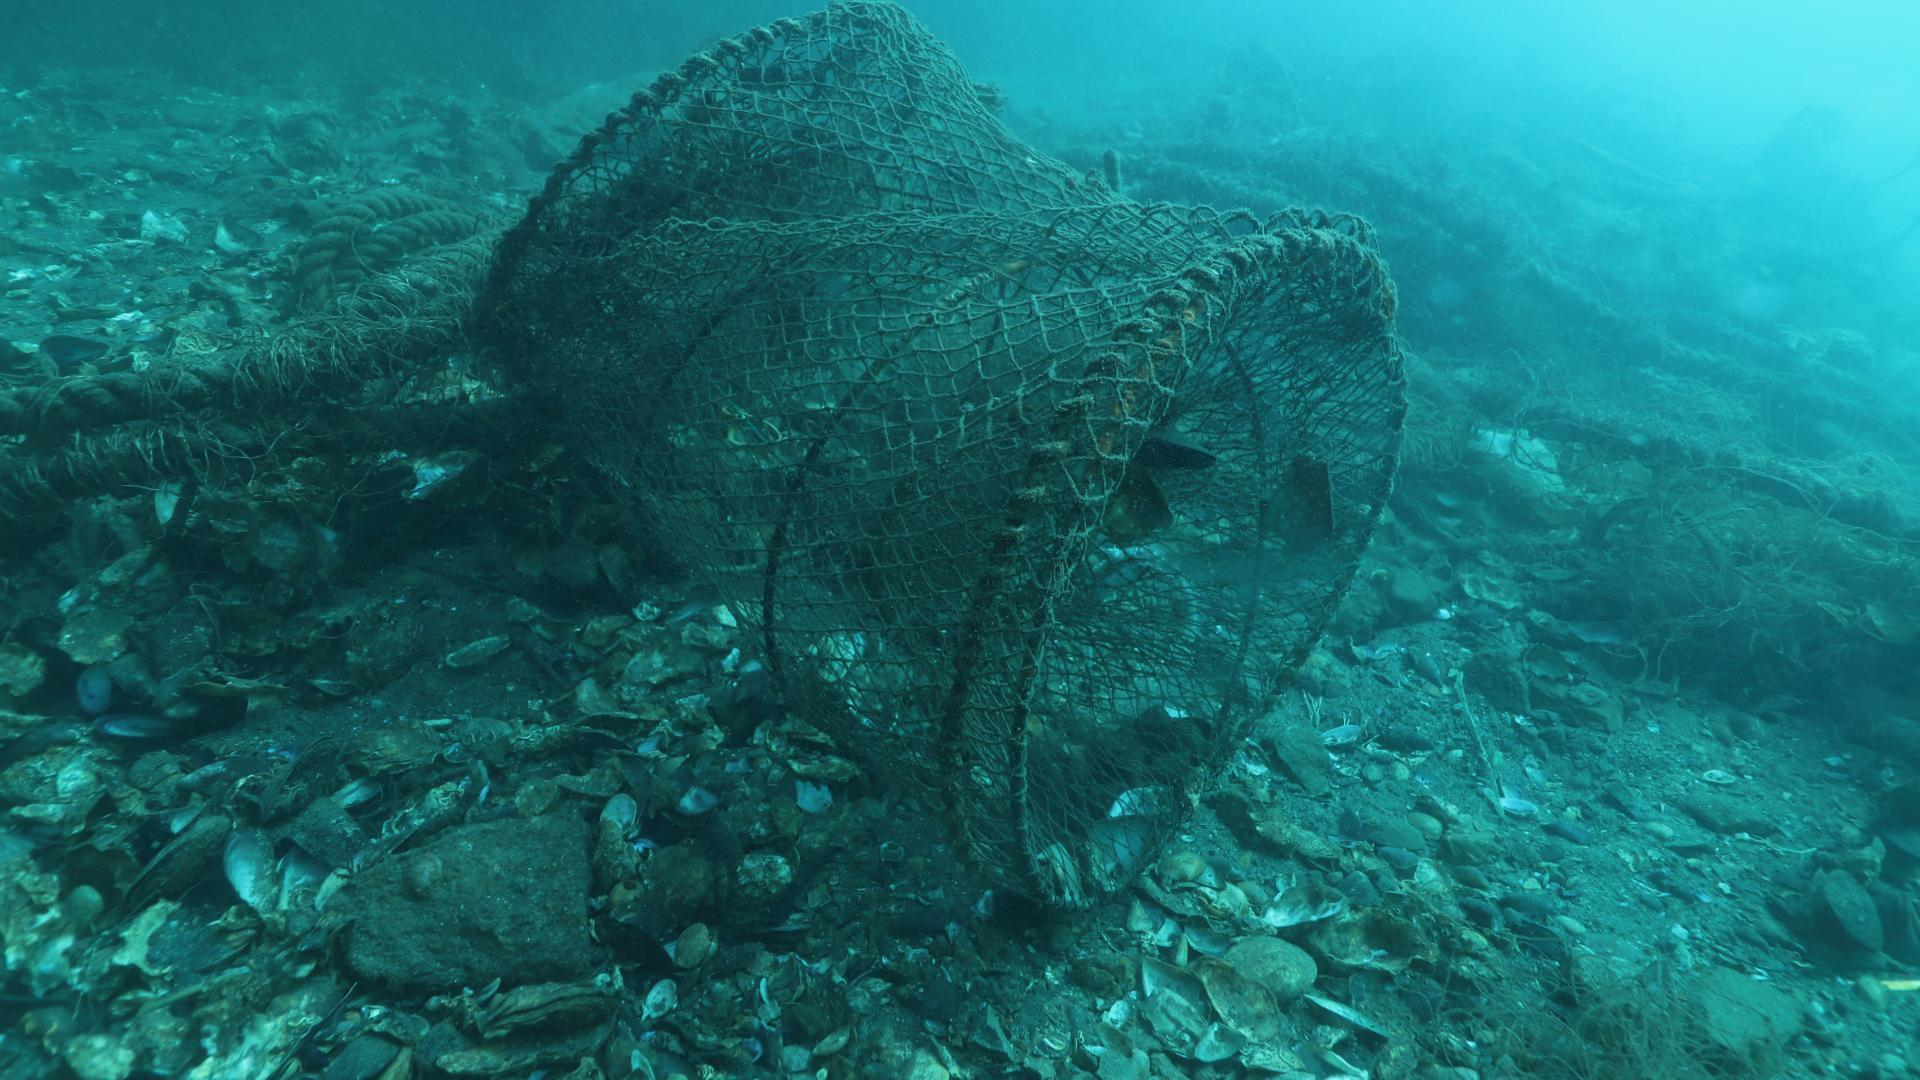bundle of ropes: (294, 189, 477, 307)
rope: (0, 361, 235, 433)
spring fish trap: (462, 0, 1400, 913)
